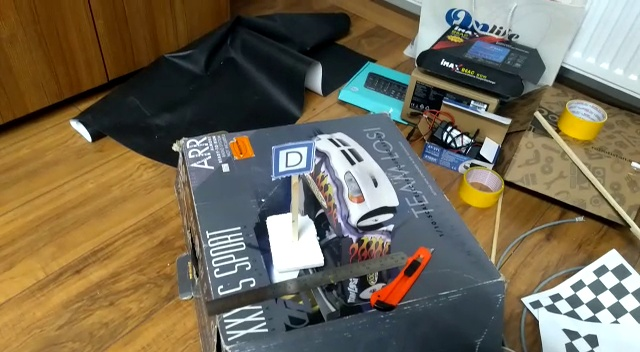durak: (268, 138, 319, 182)
